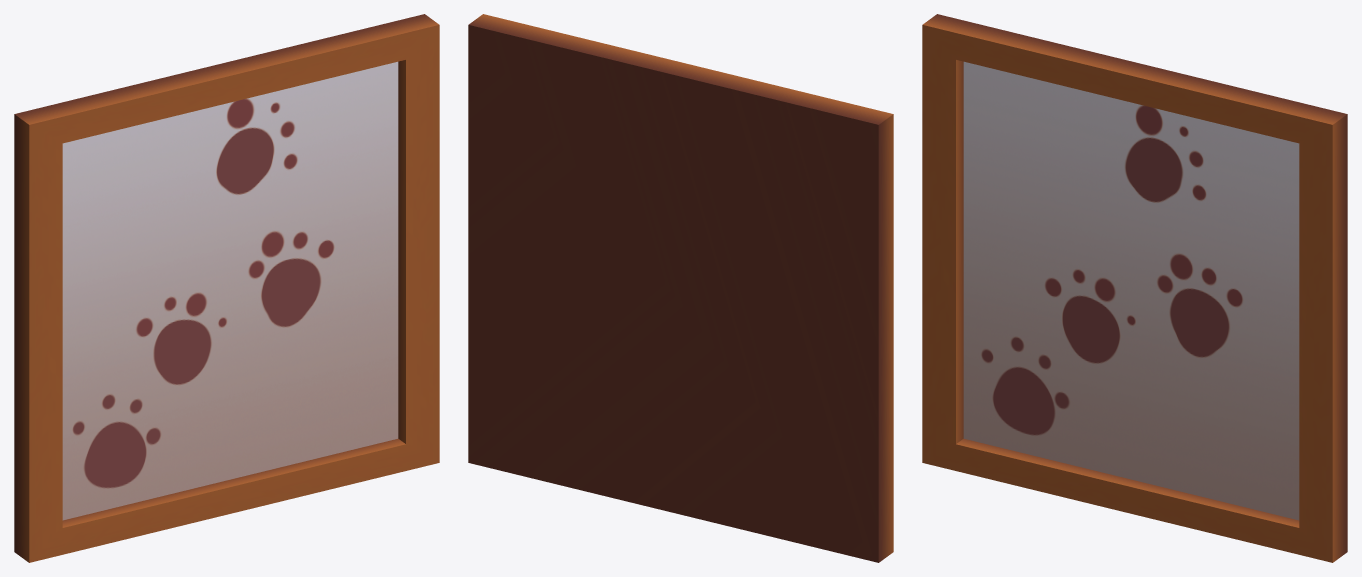
Rendered from M_frame03.FBX.
3 renders of one model, left to right at view 1: azimuth 30°, elevation 25°; view 2: azimuth 150°, elevation 25°; view 3: azimuth 330°, elevation 25°, orthographic.
Parts seen in each view (by area): view 1: Box020; view 2: Box020; view 3: Box020.
Part boxes in pixels (box(x1,y1,x2,y2)): Box020: box(14, 14, 439, 562); Box020: box(468, 14, 893, 562); Box020: box(922, 14, 1347, 562).
Size of the model in its own units: 69.46 by 4.33 by 70.86.
